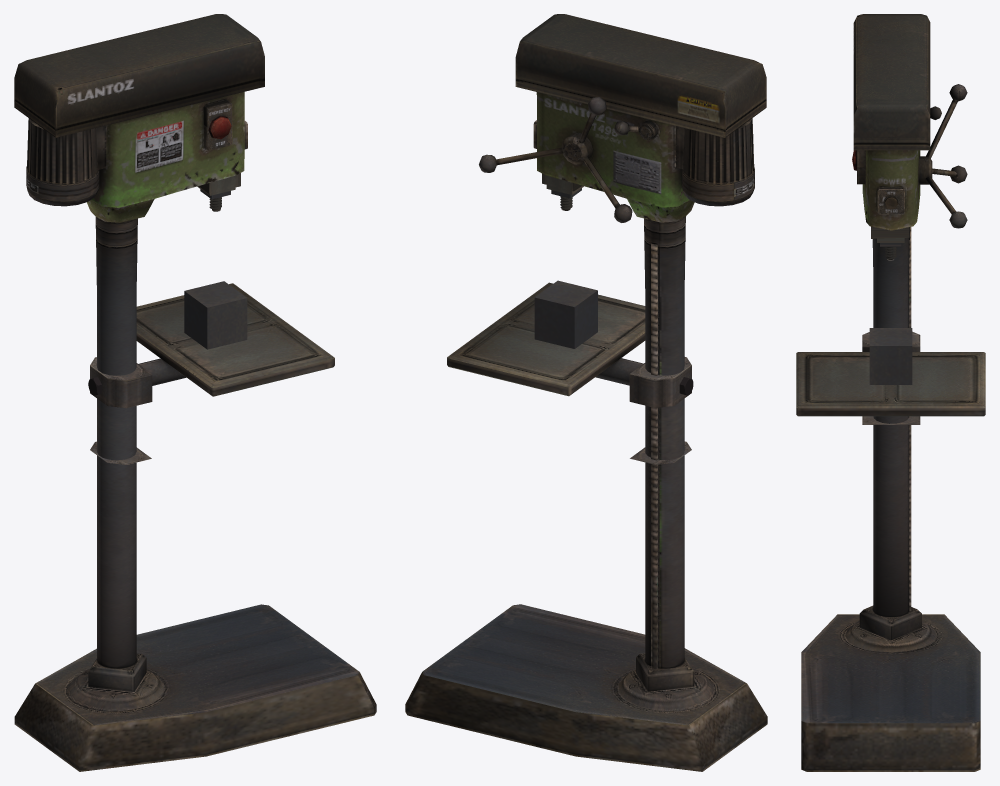
3 renders of one model, left to right at view 1: azimuth 30°, elevation 25°; view 2: azimuth 150°, elevation 25°; view 3: azimuth 270°, elevation 25°, orthographic. The views are drawn at different scales.
Parts seen in each view (by area): view 1: KNOBREG, Cube.003; view 2: KNOBREG, Cube.003, spindle; view 3: KNOBREG, Cube.003, spindle, Cube.
Part boxes in pixels (<box>): KNOBREG: <box>14,14,376,771</box>; Cube.003: <box>184,281,247,349</box>; KNOBREG: <box>405,14,767,771</box>; Cube.003: <box>534,280,597,348</box>; spindle: <box>479,97,632,222</box>; KNOBREG: <box>796,14,985,771</box>; Cube.003: <box>869,328,912,384</box>; spindle: <box>918,84,967,228</box>; Cube: <box>871,226,909,238</box>.
Bounding box in the file's own units: 1.16 × 2.49 × 0.6827.
1 material, 1 textured.
